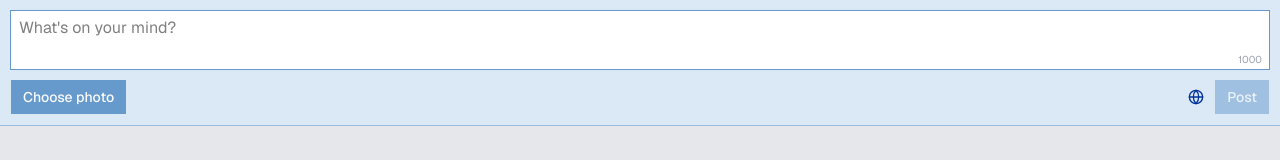
Test: PostComposer @mention autocomplete › supports multiple mentions in one post
The image size is (1280, 160).
Type "@jo" into the dropdown with placeholder "What's on your mind?" at [640, 40], box 10,10 -> 1270,70
Then press Enter
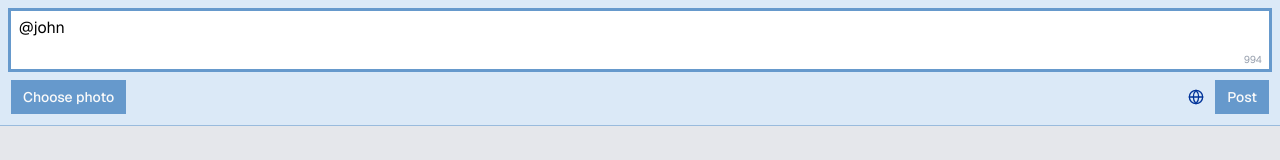
Type " and @sa" into the dropdown with placeholder "What's on your mind?" at [640, 40], box 10,10 -> 1270,70
Then press Enter
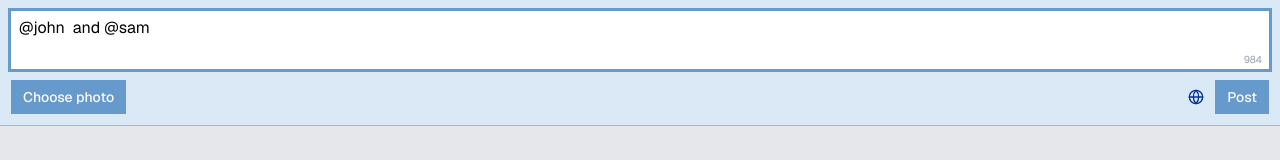
Expected: the dropdown with placeholder "What's on your mind?" holds "@john  and @sam ", 10,10 -> 1270,70
